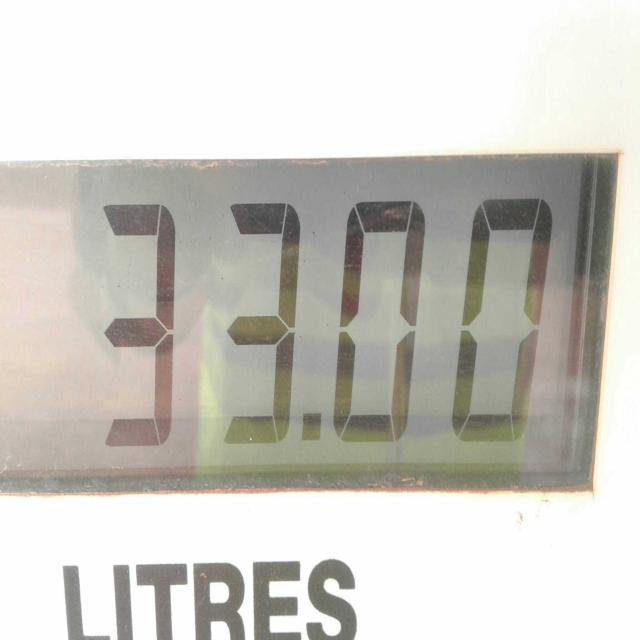.: (286, 386, 328, 457)
0: (449, 171, 554, 465), (321, 184, 434, 454)
3: (81, 197, 203, 455), (214, 187, 298, 449)
